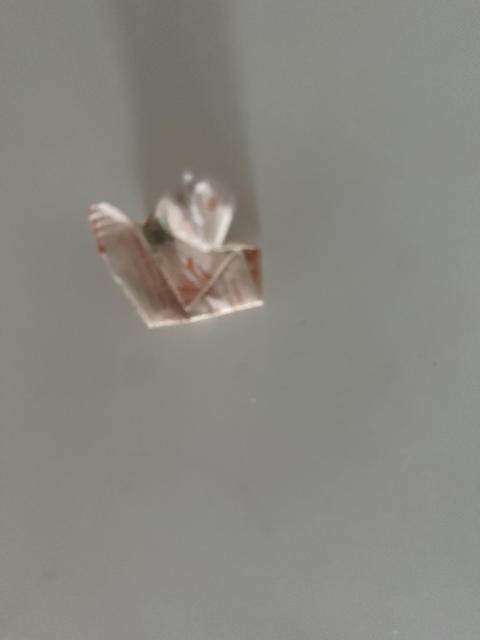Kagit: (86, 148, 267, 354)
